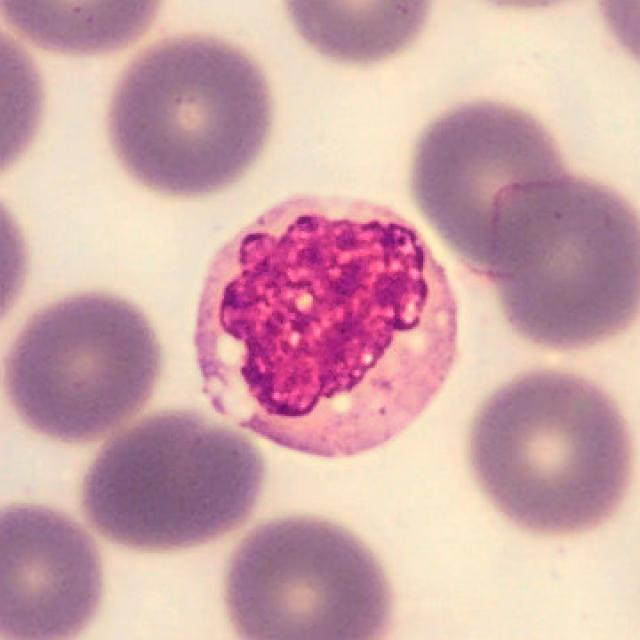Monocito: (192, 194, 460, 459)
